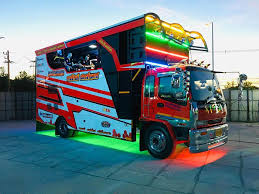truck: (34, 11, 230, 160)
